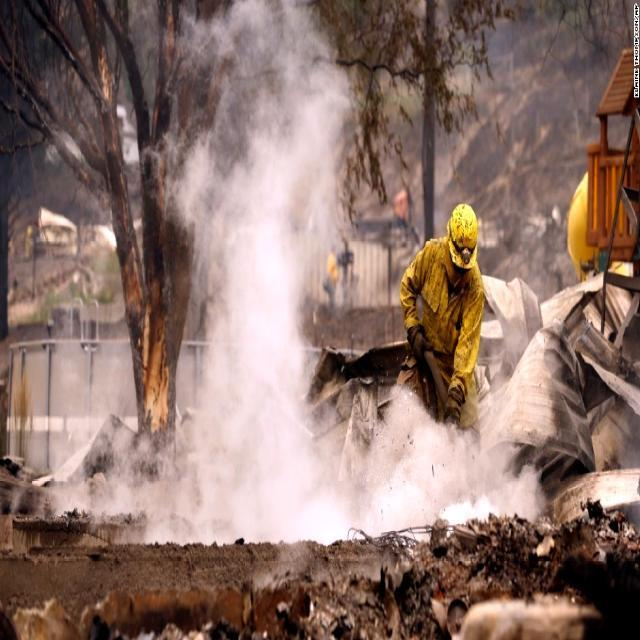Smoke: (136, 9, 384, 547), (172, 338, 530, 538)
